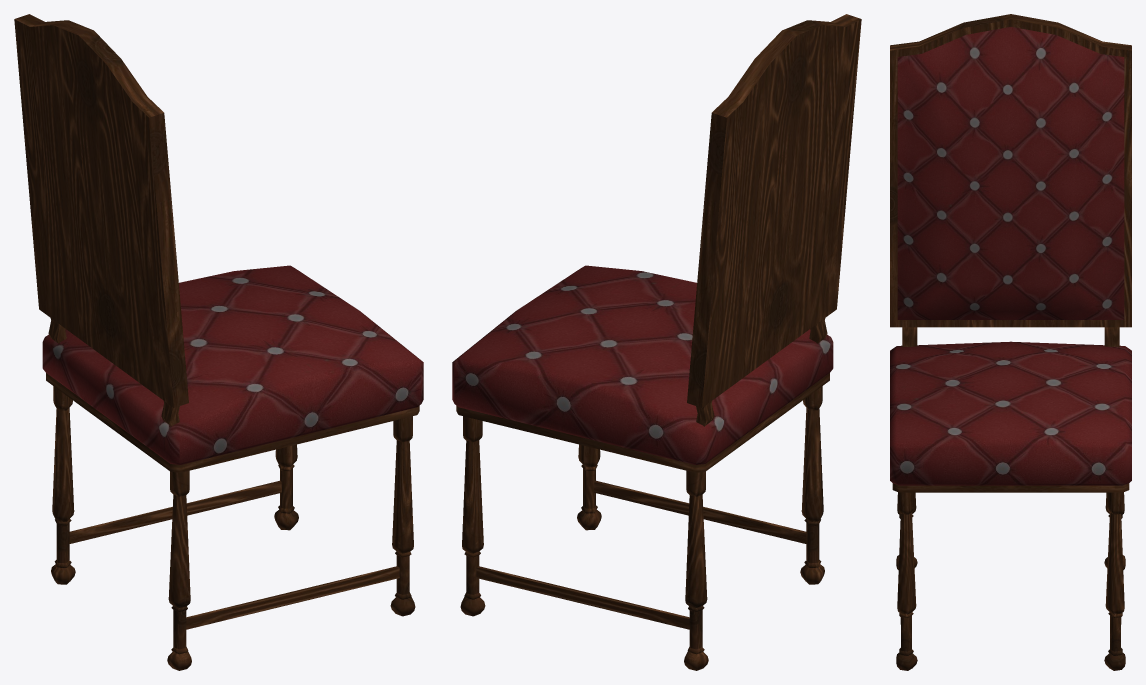
File: chair1.fbx
3 views of the same model, side by side, from view 1: azimuth 30°, elevation 25°; view 2: azimuth 150°, elevation 25°; view 3: azimuth 270°, elevation 25° (orthographic). The views are drawn at different scales.
Visible parts, largest first — view 1: uploads_files_245594_chaircrnbrr.002, uploads_files_245594_chaircrnbrr, uploads_files_245594_chaircrnbrr.001; view 2: uploads_files_245594_chaircrnbrr.002, uploads_files_245594_chaircrnbrr, uploads_files_245594_chaircrnbrr.001; view 3: uploads_files_245594_chaircrnbrr, uploads_files_245594_chaircrnbrr.002, uploads_files_245594_chaircrnbrr.001.
Part boxes in pixels (left/top/right/bottom): uploads_files_245594_chaircrnbrr.002: left=14, top=14, right=419, bottom=629; uploads_files_245594_chaircrnbrr: left=42, top=265, right=423, bottom=464; uploads_files_245594_chaircrnbrr.001: left=48, top=318, right=415, bottom=670; uploads_files_245594_chaircrnbrr.002: left=456, top=14, right=861, bottom=629; uploads_files_245594_chaircrnbrr: left=452, top=265, right=833, bottom=464; uploads_files_245594_chaircrnbrr.001: left=460, top=318, right=827, bottom=670; uploads_files_245594_chaircrnbrr: left=890, top=27, right=1131, bottom=485; uploads_files_245594_chaircrnbrr.002: left=890, top=14, right=1131, bottom=492; uploads_files_245594_chaircrnbrr.001: left=896, top=327, right=1125, bottom=670.
Bounding box in the file's own units: 1398 × 2855 × 1161.
Materials: 3 (3 with a texture image).
